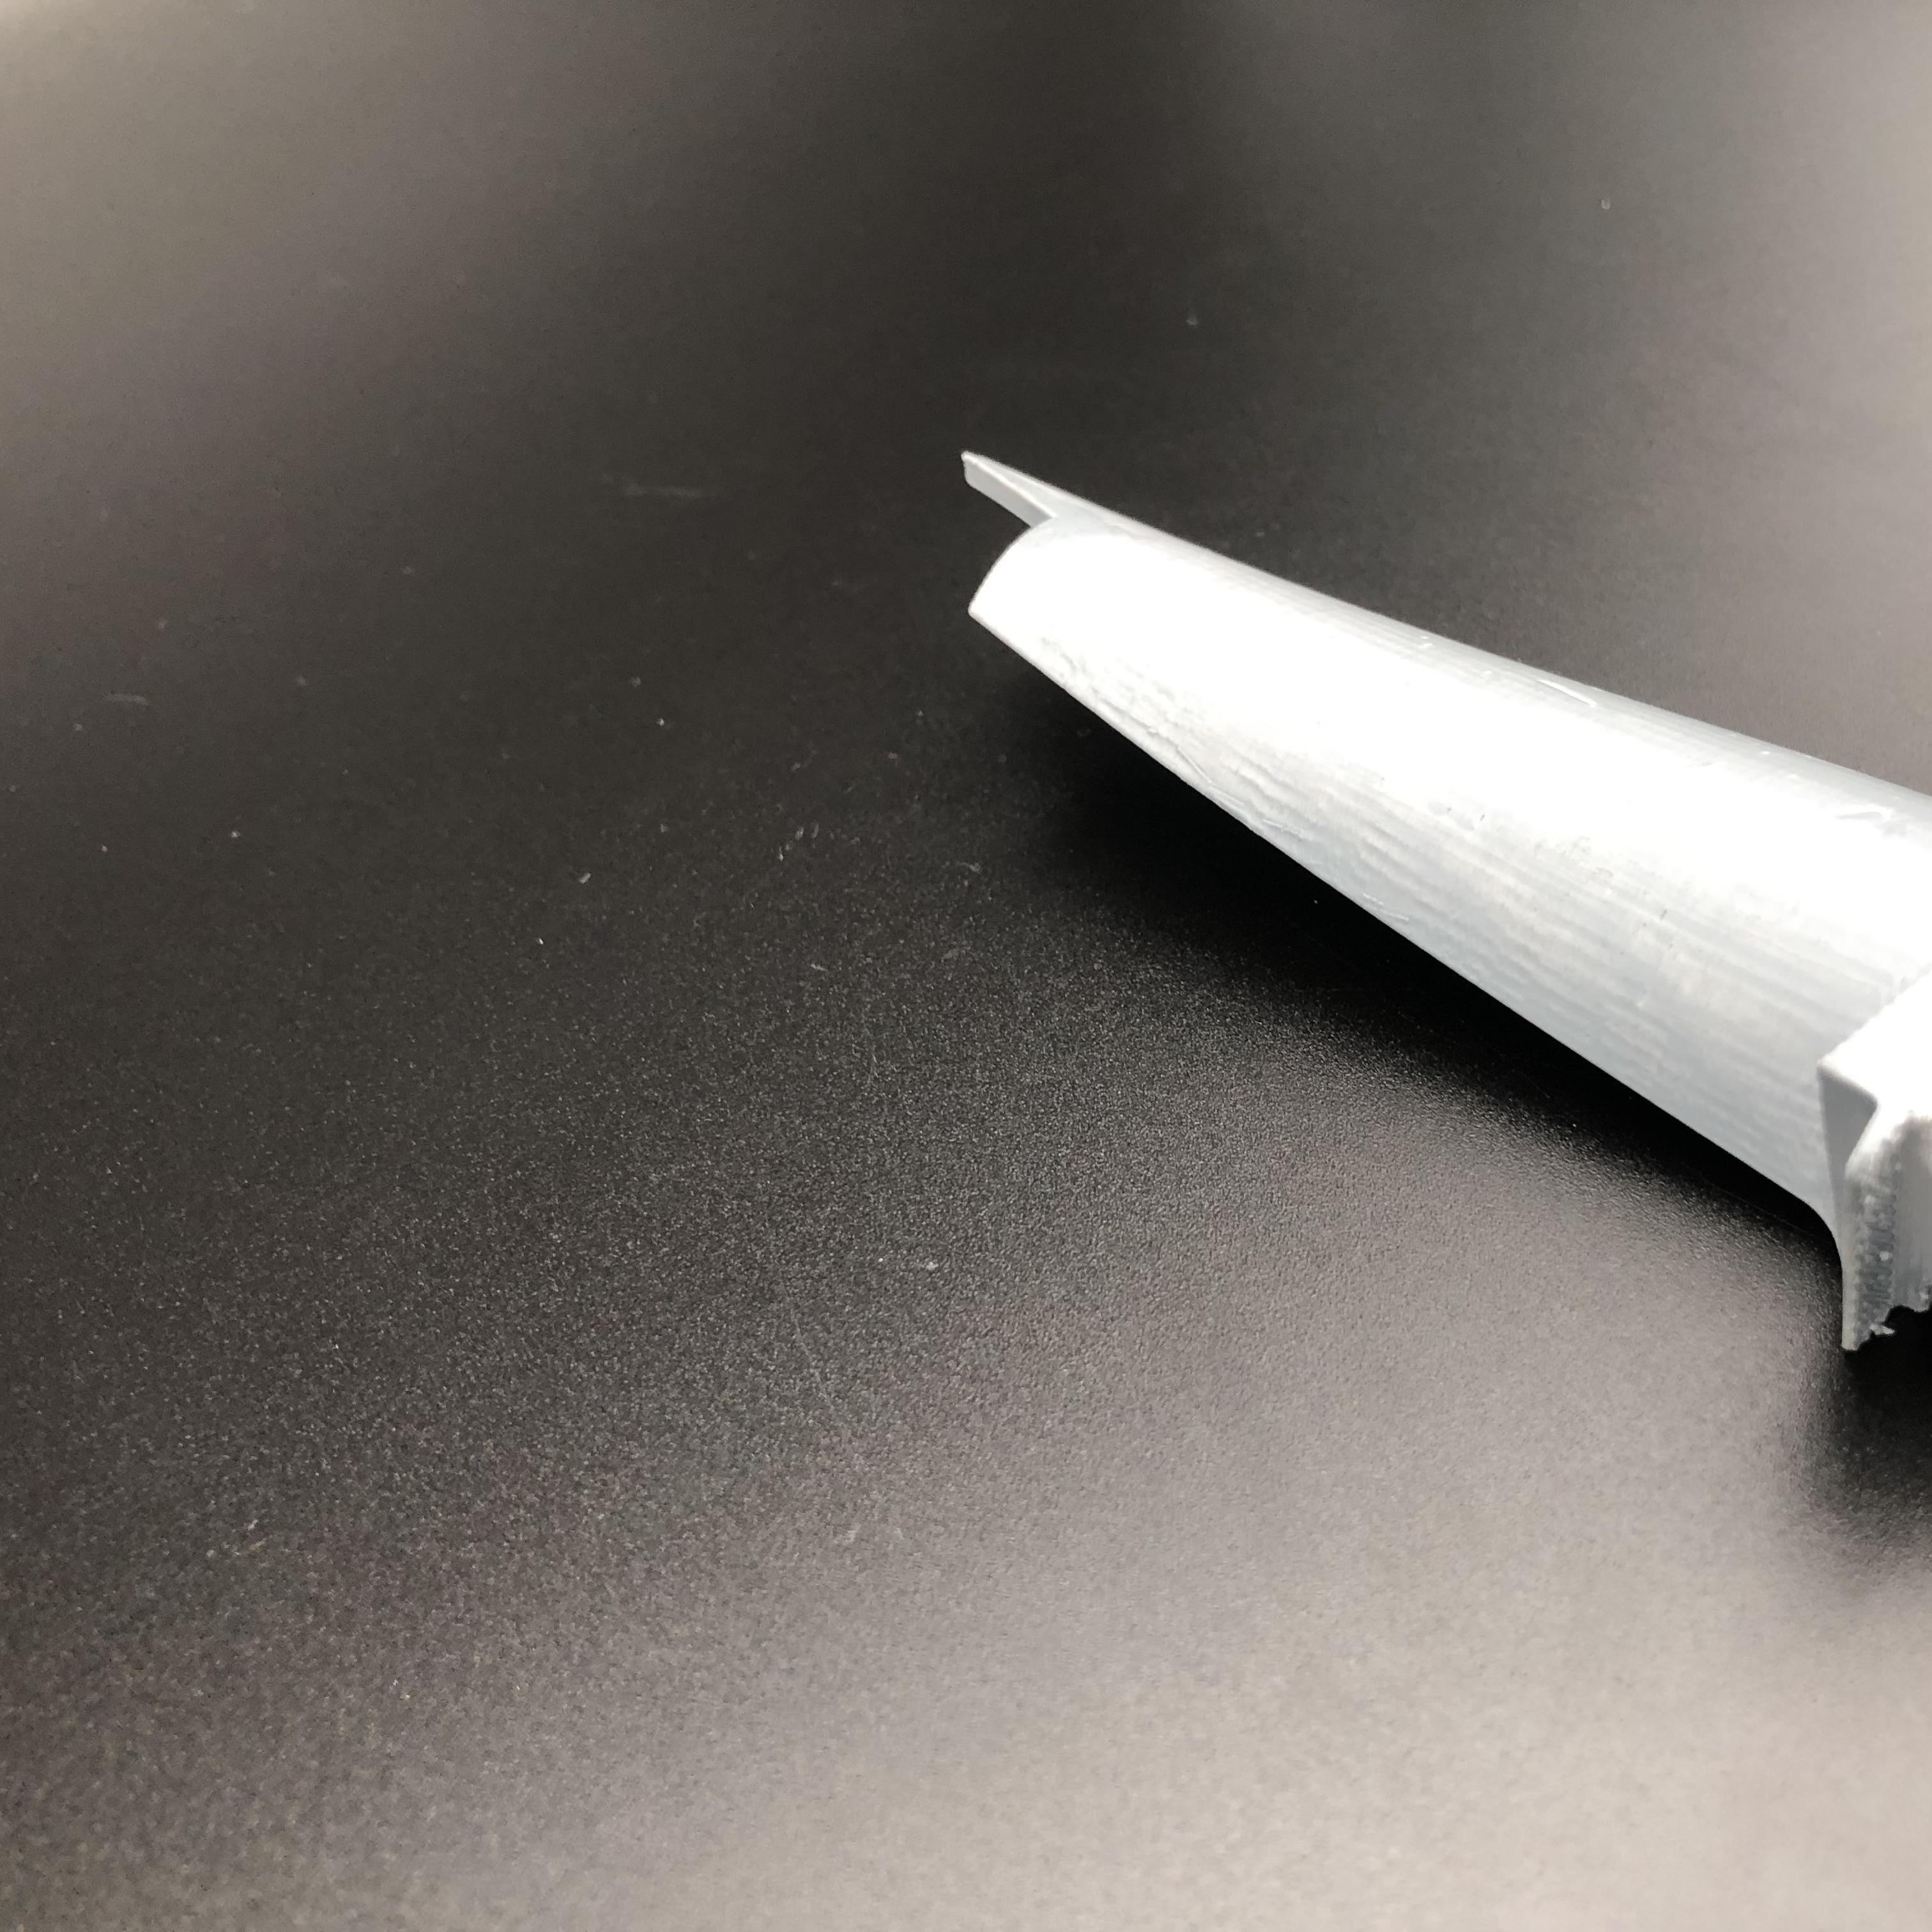fracture: (918, 451, 1085, 625)
